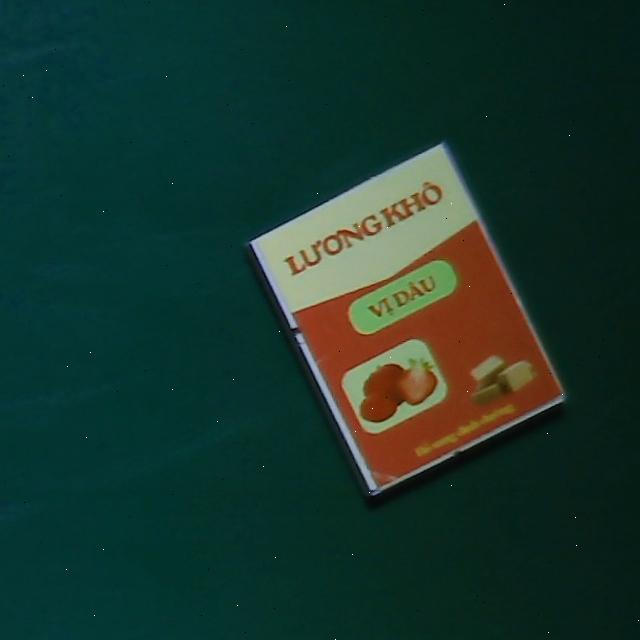dau: (246, 144, 571, 500)
